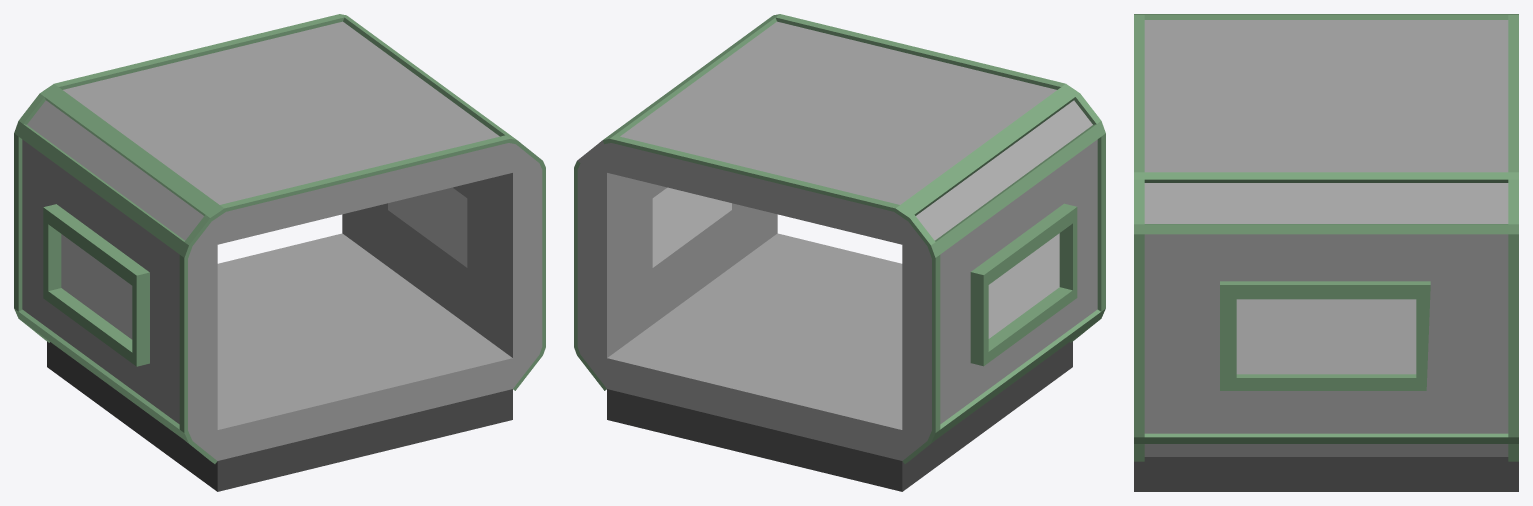
File: ExteriorBase_Window.fbx
The picture shows the model from 3 angles, left to right: view 1: azimuth 30°, elevation 25°; view 2: azimuth 150°, elevation 25°; view 3: azimuth 270°, elevation 25°; orthographic projection. The views are drawn at different scales.
Parts seen in each view (by area): view 1: ExteriorBase_Window; view 2: ExteriorBase_Window; view 3: ExteriorBase_Window.
Boxes of the visible parts, box(x1,y1,x2,y2) form: ExteriorBase_Window: box(14, 14, 545, 491); ExteriorBase_Window: box(574, 14, 1105, 491); ExteriorBase_Window: box(1134, 14, 1518, 491).
Bounding box in the file's own units: 1267 × 912 × 1000.
